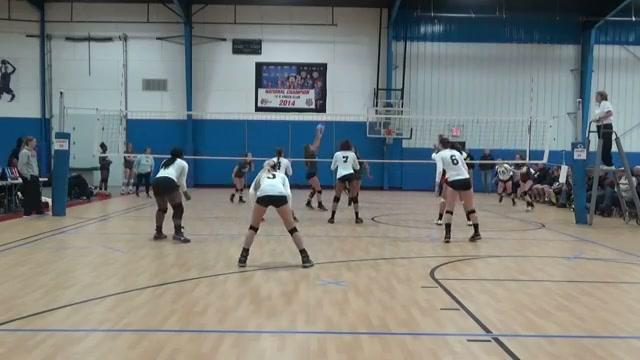ball: (316, 121, 327, 135)
